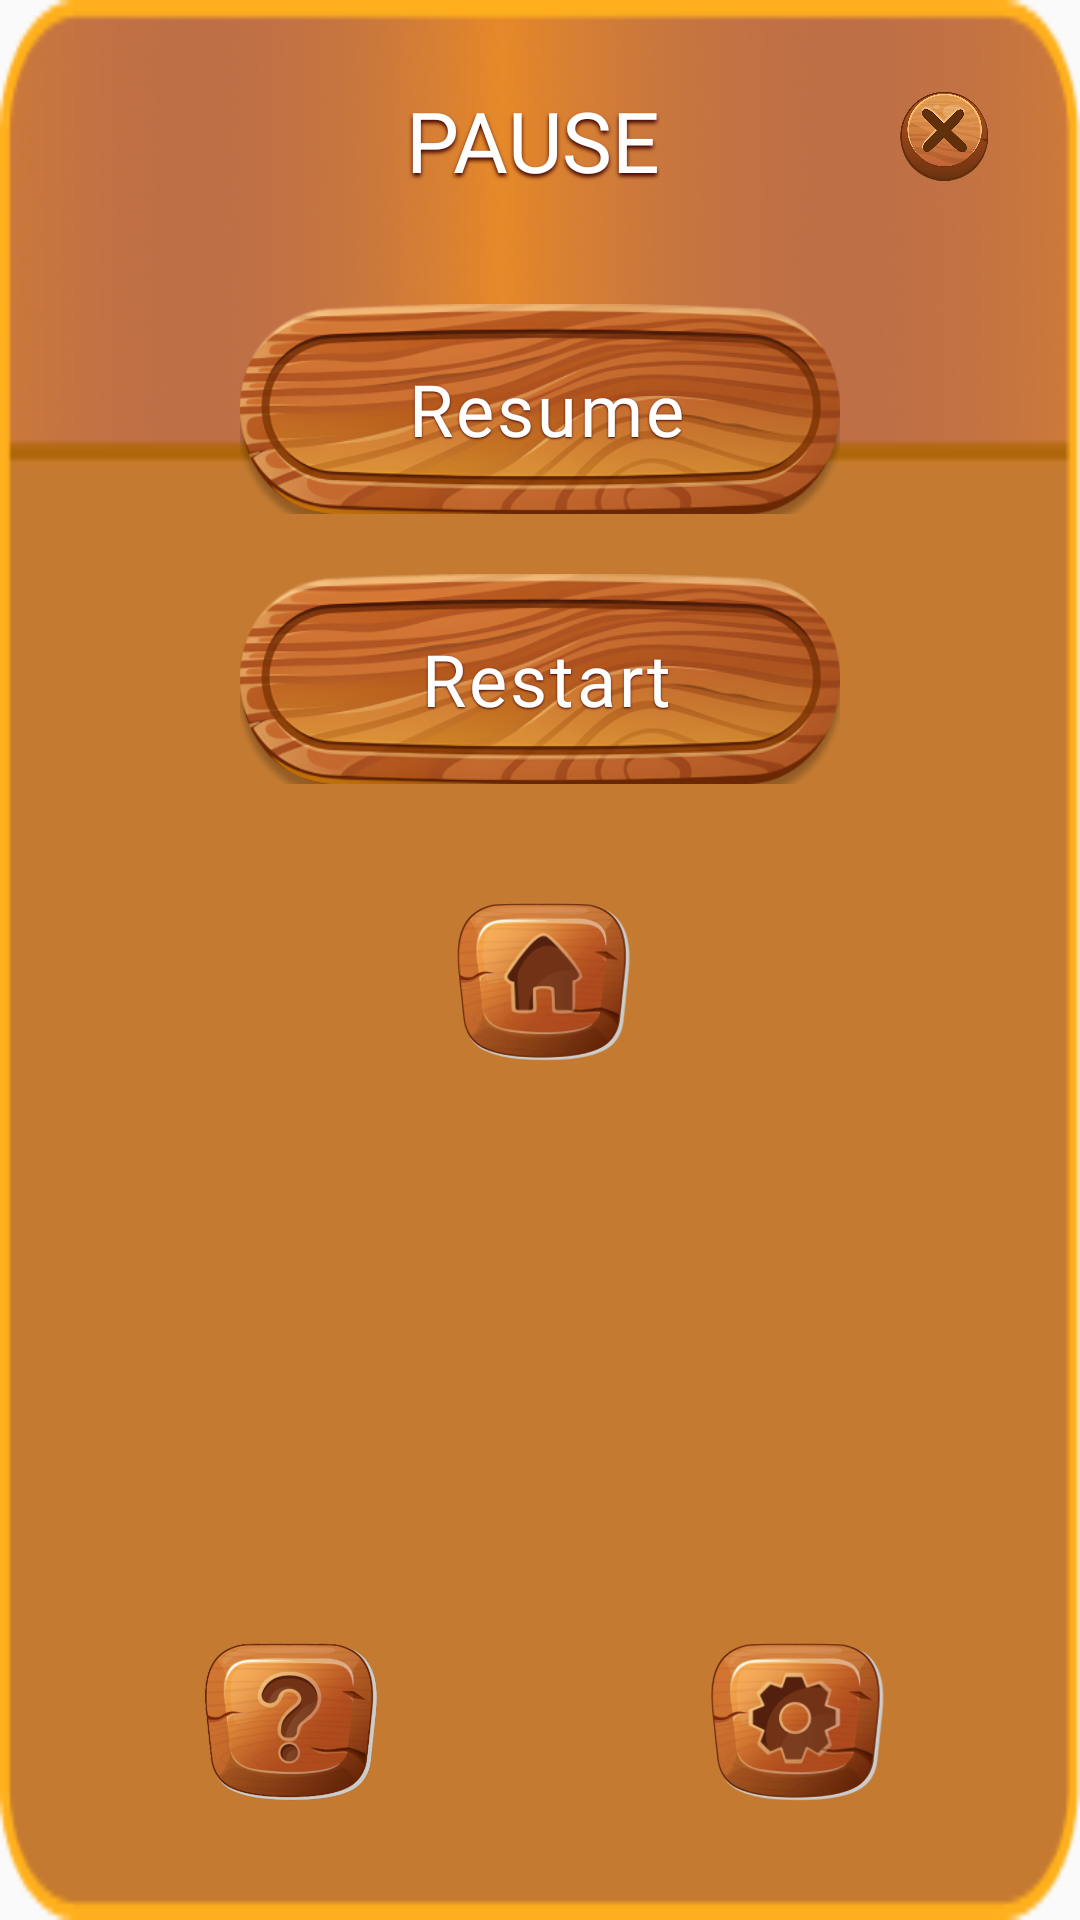

Where to tap for icons on this 1080*1920 app screen, as (x,y):
help: (291,1721)
home: (543,981)
popup close: (944,136)
settings: (797,1721)
